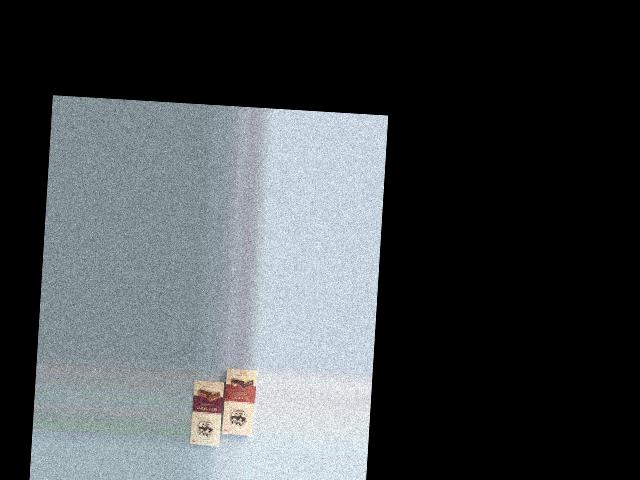chocolate: (215, 366, 258, 439)
